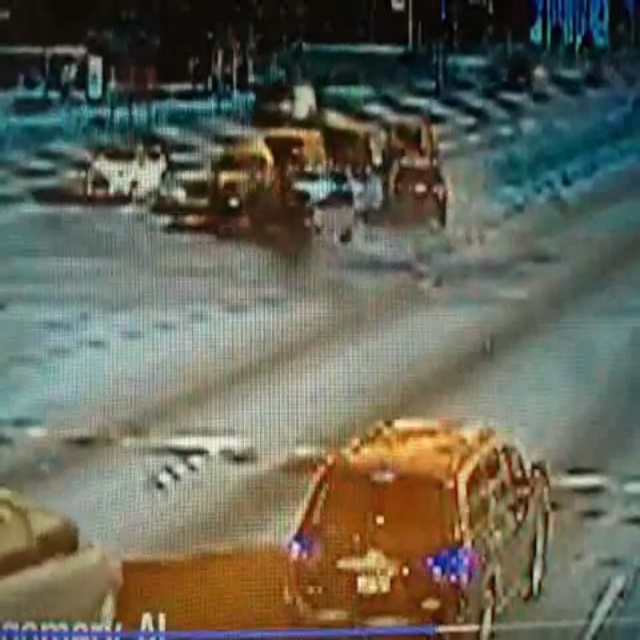acc: (278, 175, 478, 284)
